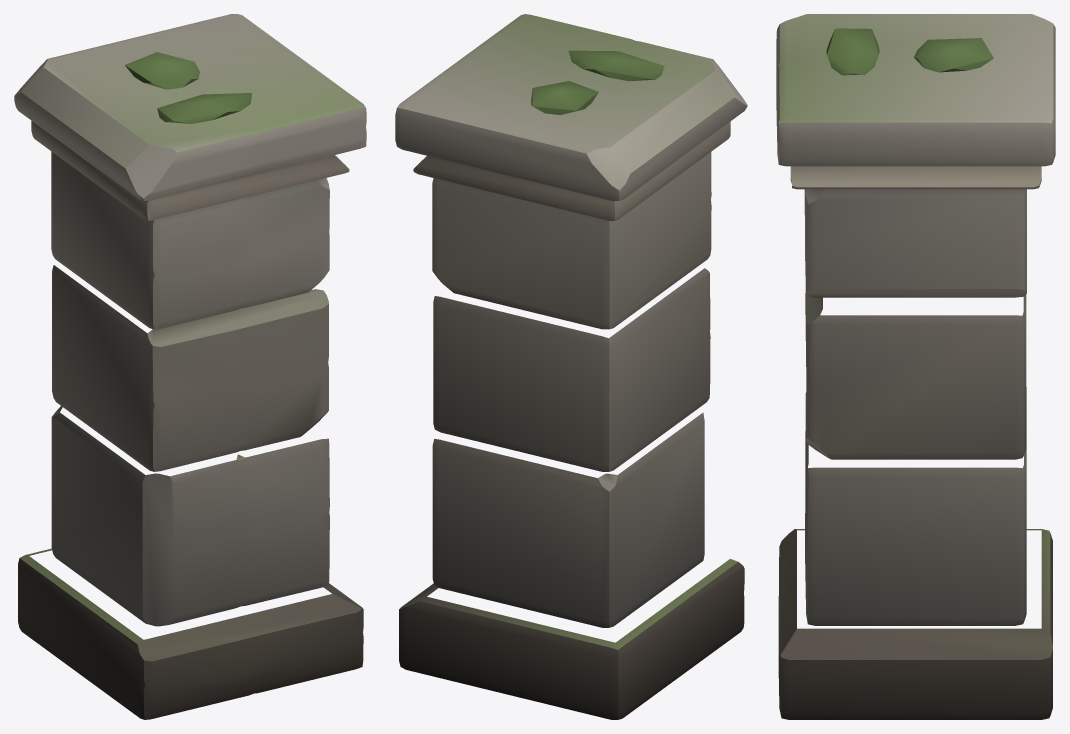
The model's file is ruins-pier-v1.glb.
3 views of the same model, side by side, from view 1: azimuth 30°, elevation 25°; view 2: azimuth 150°, elevation 25°; view 3: azimuth 270°, elevation 25° (orthographic). The views are drawn at different scales.
Parts seen in each view (by area): view 1: 0_ruins_pier; view 2: 0_ruins_pier; view 3: 0_ruins_pier.
Part boxes in pixels (bbox=[...]): 0_ruins_pier: bbox=[14, 14, 366, 719]; 0_ruins_pier: bbox=[395, 14, 747, 719]; 0_ruins_pier: bbox=[776, 14, 1055, 719].
Size of the model in its own units: 1 by 2.4 by 0.9953.
